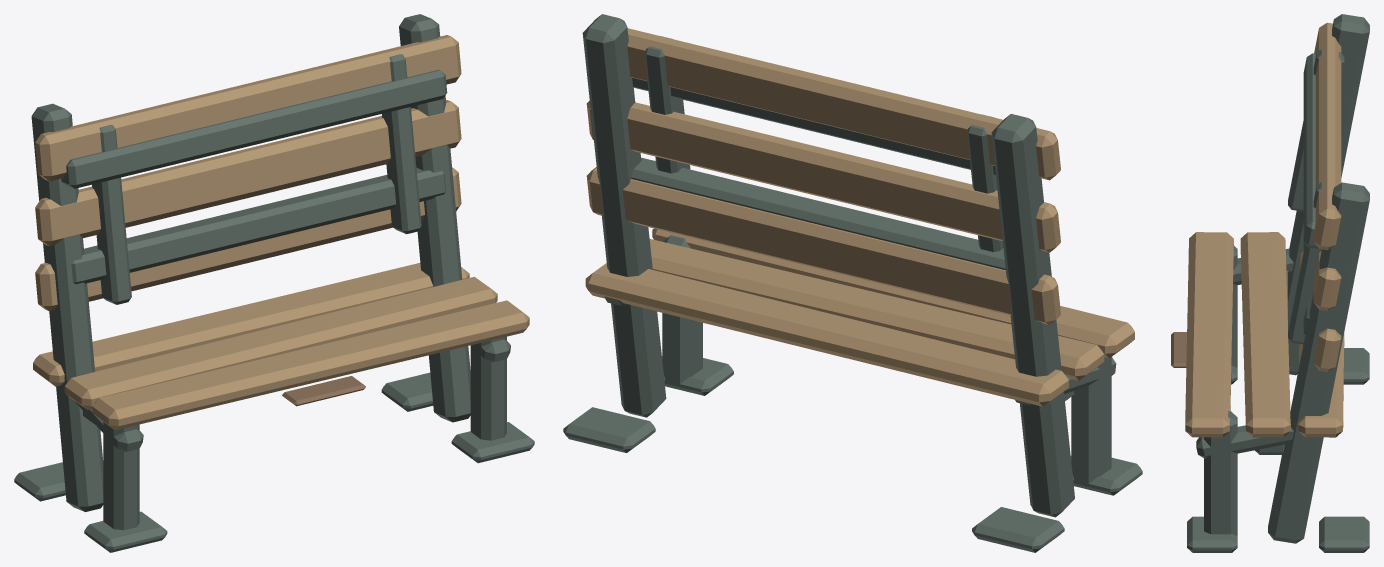
File: bench.glb
3 views of the same model, side by side, from view 1: azimuth 30°, elevation 25°; view 2: azimuth 150°, elevation 25°; view 3: azimuth 270°, elevation 25° (orthographic). The views are drawn at different scales.
Parts seen in each view (by area): view 1: bench_back_1, bench_seat_0, bench_back_2, bench_seat_1, bench_back_rail_1, bench_back_rail_0, bench_leg_rear, bench_seat_2, bench_leg_rear.001, bench_back_0, bench_back_bracket, bench_back_bracket.001 (+8 smaller); view 2: bench_back_1, bench_back_0, bench_seat_2, bench_back_2, bench_leg_rear, bench_leg_rear.001, bench_seat_1, bench_back_rail_0, bench_seat_0, bench_leg_front, bench_back_rail_1, bench_leg_front.001 (+6 smaller); view 3: bench_leg_rear.001, bench_seat_1, bench_seat_0, bench_back_2, bench_leg_rear, bench_leg_front.001, bench_back_rail_1, bench_foot_rear.001, bench_seat_2, bench_back_bracket.001, bench_foot_front.001, bench_side_brace.001 (+8 smaller).
Boxes of the visible parts, left/top/right/bottom form: bench_back_1: left=35, top=100, right=461, bottom=246; bench_seat_0: left=92, top=300, right=529, bottom=430; bench_back_2: left=35, top=35, right=461, bottom=181; bench_seat_1: left=64, top=276, right=497, bottom=409; bench_back_rail_1: left=61, top=69, right=447, bottom=188; bench_back_rail_0: left=71, top=168, right=446, bottom=284; bench_leg_rear: left=31, top=103, right=103, bottom=511; bench_seat_2: left=33, top=263, right=469, bottom=386; bench_leg_rear.001: left=399, top=14, right=470, bottom=422; bench_back_0: left=35, top=167, right=461, bottom=311; bench_back_bracket: left=92, top=125, right=131, bottom=304; bench_back_bracket.001: left=382, top=54, right=421, bottom=234; bench_back_1: left=586, top=101, right=1060, bottom=252; bench_back_0: left=586, top=167, right=1060, bottom=324; bench_seat_2: left=585, top=263, right=1068, bottom=406; bench_back_2: left=627, top=28, right=1060, bottom=180; bench_leg_rear: left=991, top=114, right=1074, bottom=517; bench_leg_rear.001: left=582, top=14, right=666, bottom=417; bench_seat_1: left=649, top=239, right=1104, bottom=380; bench_back_rail_0: left=631, top=157, right=1005, bottom=270; bench_seat_0: left=652, top=228, right=1134, bottom=358; bench_leg_front: left=1071, top=357, right=1111, bottom=483; bench_back_rail_1: left=632, top=78, right=995, bottom=175; bench_leg_front.001: left=662, top=235, right=702, bottom=385; bench_leg_rear.001: left=1268, top=182, right=1369, bottom=543; bench_seat_1: left=1240, top=232, right=1290, bottom=437; bench_seat_0: left=1185, top=232, right=1233, bottom=437; bench_back_2: left=1313, top=22, right=1341, bottom=249; bench_leg_rear: left=1288, top=14, right=1369, bottom=375; bench_leg_front.001: left=1204, top=411, right=1237, bottom=536; bench_back_rail_1: left=1303, top=53, right=1322, bottom=249; bench_foot_rear.001: left=1319, top=516, right=1369, bottom=552; bench_seat_2: left=1298, top=251, right=1344, bottom=437; bench_back_bracket.001: left=1288, top=182, right=1322, bottom=344; bench_foot_front.001: left=1187, top=516, right=1237, bottom=552; bench_side_brace.001: left=1196, top=425, right=1293, bottom=458.
Bounding box in the file's own units: 1.66 × 1.4 × 0.7082.
